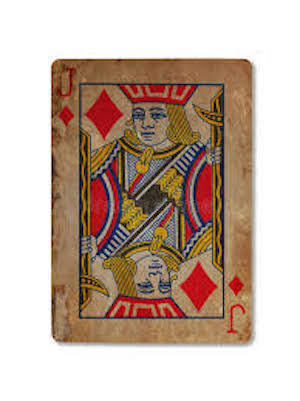JackOfDiamonds: (40, 47, 265, 362)
